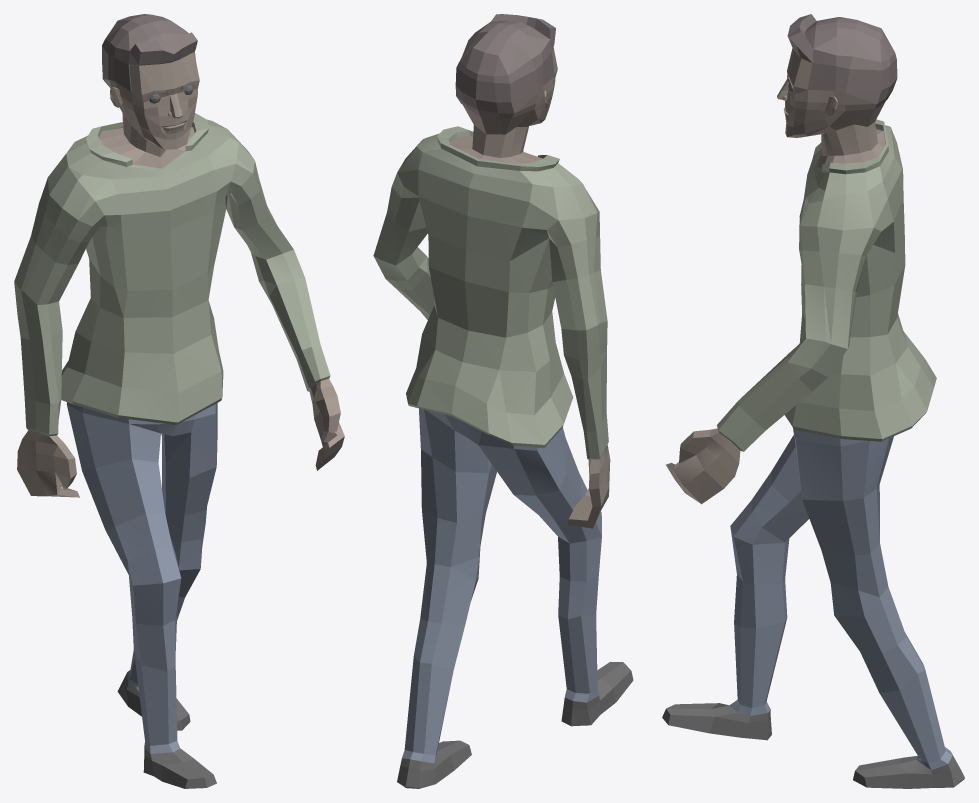
The model's file is walk_7.glb.
3 views of the same model, side by side, from view 1: azimuth 30°, elevation 25°; view 2: azimuth 150°, elevation 25°; view 3: azimuth 270°, elevation 25° (orthographic). The views are drawn at different scales.
Parts seen in each view (by area): view 1: BaseHuman_baked; view 2: BaseHuman_baked; view 3: BaseHuman_baked.
Boxes of the visible parts, box(x1,y1,x2,y2) form: BaseHuman_baked: box(14, 14, 344, 788); BaseHuman_baked: box(373, 14, 633, 788); BaseHuman_baked: box(662, 14, 964, 788).
Bounding box in the file's own units: 1.66 × 4.72 × 1.75.
